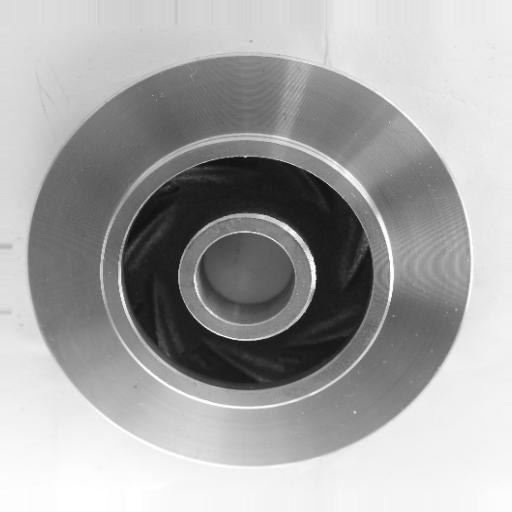polished_casting: (25, 55, 472, 469)
